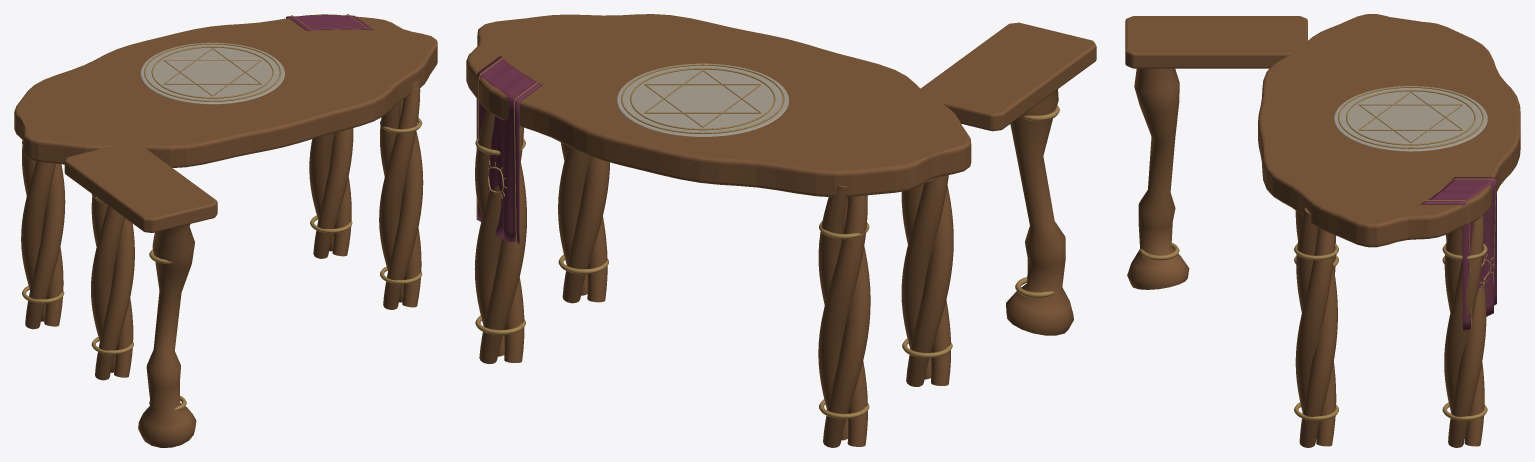
File: enchantress.fbx
3 renders of one model, left to right at view 1: azimuth 30°, elevation 25°; view 2: azimuth 150°, elevation 25°; view 3: azimuth 270°, elevation 25°, orthographic. The views are drawn at different scales.
Parts seen in each view (by area): view 1: enchantress_DarkWood, GroundSupport12_Hand turned support_DarkWood, enchantress_PaleStone, GroundSupport05_Twisted root support.005_DarkWood, enchantress_Brass, GroundSupport03_Twisted root support.003_DarkWood, GroundSupport06_Twisted root support.006_DarkWood, GroundSupport09_Twisted root support.009_DarkWood, GroundSupport00_Twisted root support_DarkWood, GroundSupport11_Twisted root support.011_DarkWood, GroundSupport08_Twisted root support.008_DarkWood, GroundSupport04_Twisted root support.004_DarkWood (+5 smaller); view 2: enchantress_DarkWood, enchantress_PaleStone, GroundSupport12_Hand turned support_DarkWood, ClothRunner_-60_AltarCloth, enchantress_Brass, GroundSupport07_Twisted root support.007_DarkWood, GroundSupport08_Twisted root support.008_DarkWood, GroundSupport11_Twisted root support.011_DarkWood, GroundSupport10_Twisted root support.010_DarkWood, GroundSupport02_Twisted root support.002_DarkWood, GroundSupport05_Twisted root support.005_DarkWood, GroundSupport06_Twisted root support.006_DarkWood (+6 smaller); view 3: enchantress_DarkWood, GroundSupport12_Hand turned support_DarkWood, enchantress_PaleStone, ClothRunner_-60_AltarCloth, enchantress_Brass, GroundSupport03_Twisted root support.003_DarkWood, GroundSupport04_Twisted root support.004_DarkWood, GroundSupport00_Twisted root support_DarkWood, GroundSupport01_Twisted root support.001_DarkWood, GroundSupport05_Twisted root support.005_DarkWood, GroundSupport02_Twisted root support.002_DarkWood, ClothDecoration_-60.
Boxes of the visible parts, <box> form: enchantress_DarkWood: <box>14,14,437,232</box>; GroundSupport12_Hand turned support_DarkWood: <box>138,224,196,447</box>; enchantress_PaleStone: <box>140,42,284,104</box>; GroundSupport05_Twisted root support.005_DarkWood: <box>379,80,420,302</box>; enchantress_Brass: <box>22,43,422,410</box>; GroundSupport03_Twisted root support.003_DarkWood: <box>383,99,423,309</box>; GroundSupport06_Twisted root support.006_DarkWood: <box>25,163,65,329</box>; GroundSupport09_Twisted root support.009_DarkWood: <box>95,218,134,380</box>; GroundSupport00_Twisted root support_DarkWood: <box>313,128,353,258</box>; GroundSupport11_Twisted root support.011_DarkWood: <box>91,206,124,372</box>; GroundSupport08_Twisted root support.008_DarkWood: <box>21,161,55,321</box>; GroundSupport04_Twisted root support.004_DarkWood: <box>380,101,421,307</box>; enchantress_DarkWood: <box>466,14,1096,197</box>; enchantress_PaleStone: <box>616,63,788,136</box>; GroundSupport12_Hand turned support_DarkWood: <box>1006,89,1073,335</box>; ClothRunner_-60_AltarCloth: <box>476,56,542,243</box>; enchantress_Brass: <box>475,64,1059,418</box>; GroundSupport07_Twisted root support.007_DarkWood: <box>818,195,867,440</box>; GroundSupport08_Twisted root support.008_DarkWood: <box>823,200,870,447</box>; GroundSupport11_Twisted root support.011_DarkWood: <box>906,185,953,386</box>; GroundSupport10_Twisted root support.010_DarkWood: <box>901,175,948,379</box>; GroundSupport02_Twisted root support.002_DarkWood: <box>479,162,526,363</box>; GroundSupport05_Twisted root support.005_DarkWood: <box>562,156,609,303</box>; GroundSupport06_Twisted root support.006_DarkWood: <box>818,185,867,446</box>; enchantress_DarkWood: <box>1125,14,1520,247</box>; GroundSupport12_Hand turned support_DarkWood: <box>1127,68,1189,289</box>; enchantress_PaleStone: <box>1334,86,1487,151</box>; ClothRunner_-60_AltarCloth: <box>1420,177,1496,330</box>; enchantress_Brass: <box>1139,86,1487,420</box>; GroundSupport03_Twisted root support.003_DarkWood: <box>1295,228,1335,438</box>; GroundSupport04_Twisted root support.004_DarkWood: <box>1299,266,1337,447</box>; GroundSupport00_Twisted root support_DarkWood: <box>1444,215,1483,412</box>; GroundSupport01_Twisted root support.001_DarkWood: <box>1448,276,1486,447</box>; GroundSupport05_Twisted root support.005_DarkWood: <box>1296,207,1336,446</box>; GroundSupport02_Twisted root support.002_DarkWood: <box>1444,227,1484,446</box>; ClothDecoration_-60: <box>1425,178,1496,328</box>.
Bounding box in the file's own units: 176 × 98.39 × 138.
